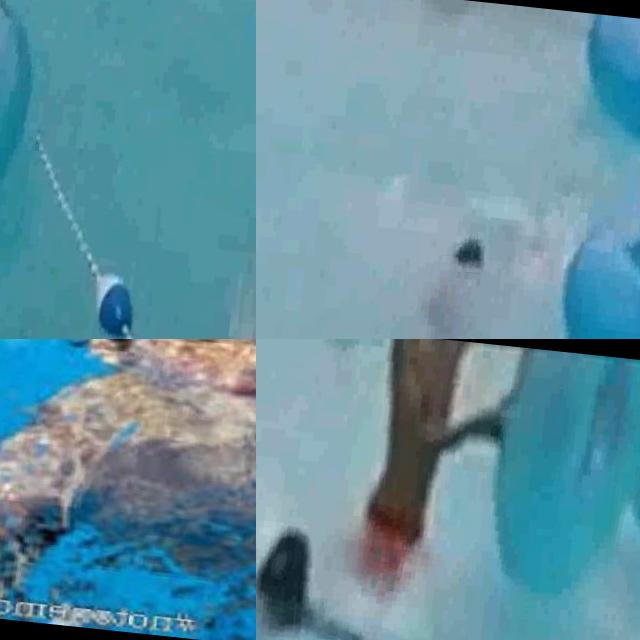drowning: (0, 339, 256, 599), (354, 152, 570, 339), (256, 478, 381, 640)
